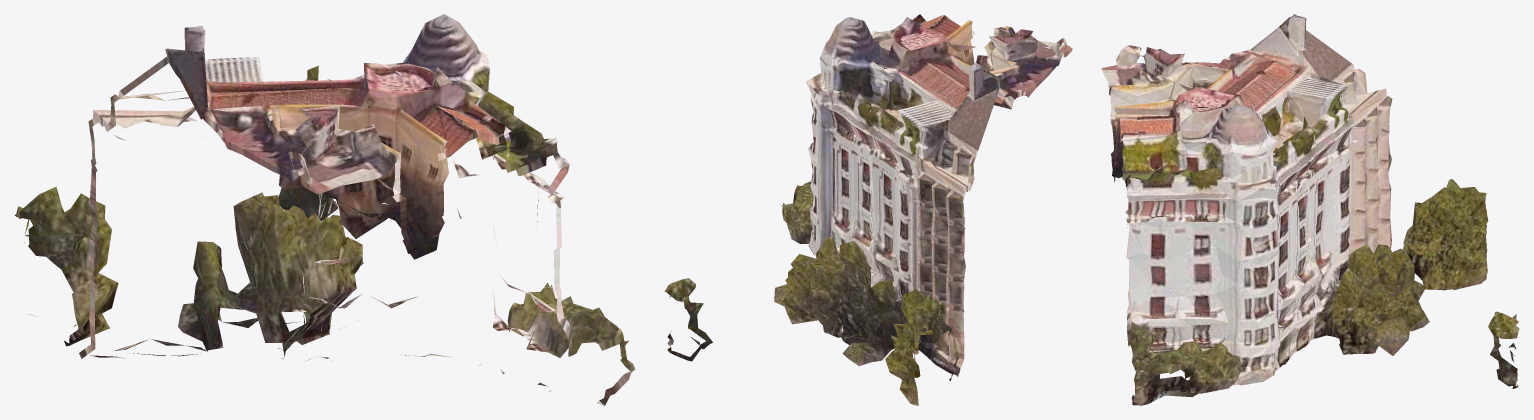
3 renders of one model, left to right at view 1: azimuth 30°, elevation 25°; view 2: azimuth 150°, elevation 25°; view 3: azimuth 270°, elevation 25°, orthographic. The views are drawn at different scales.
Visible parts, largest first — view 1: Mesh_0; view 2: Mesh_0; view 3: Mesh_0.
Boxes of the visible parts, bbox=[...] form: Mesh_0: bbox=[15, 14, 635, 405]; Mesh_0: bbox=[664, 14, 1072, 405]; Mesh_0: bbox=[1101, 14, 1519, 405].
Size of the model in its own units: 33.32 by 30.58 by 41.51.
Materials: 2 (2 with a texture image).
